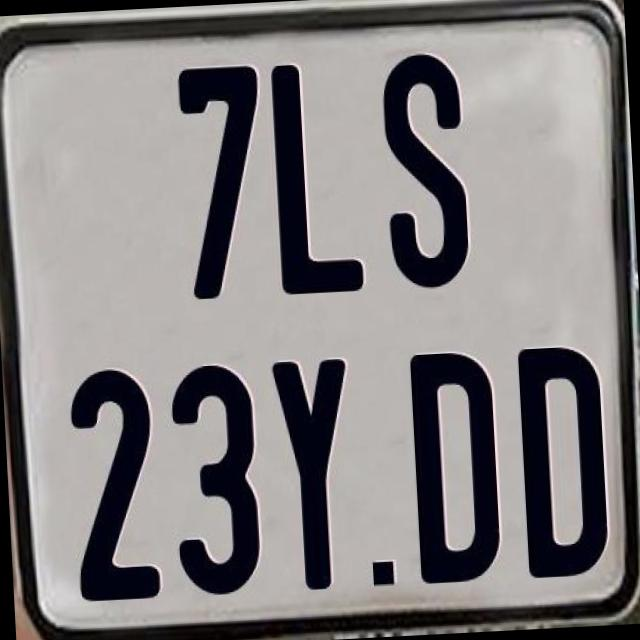2: (65, 368, 157, 612)
3: (166, 360, 266, 594)
7: (176, 62, 272, 297)
D: (406, 346, 504, 582), (514, 342, 610, 575)
L: (270, 60, 372, 302)
S: (380, 47, 472, 294)
Y: (268, 358, 354, 593)
